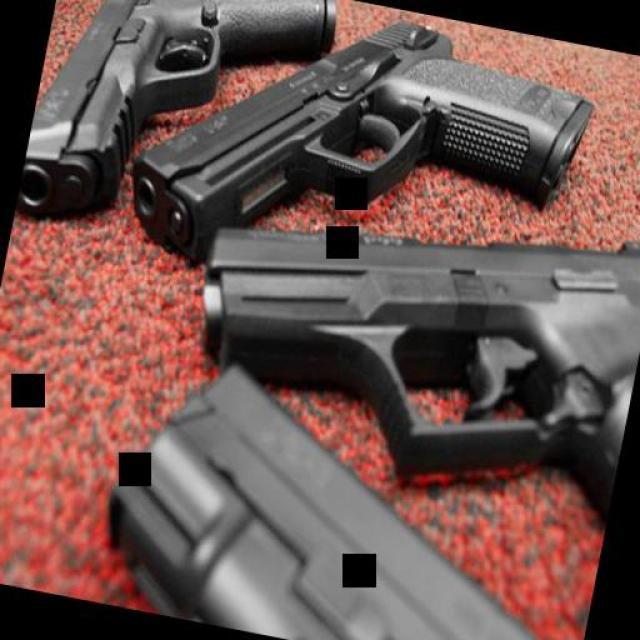gun: (162, 150, 640, 544), (108, 0, 602, 332), (85, 337, 622, 640), (15, 0, 340, 268)
